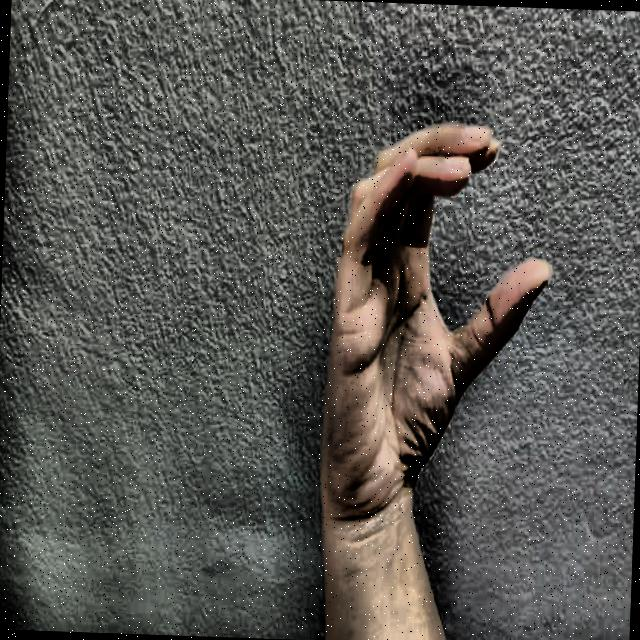A: (283, 77, 574, 553)
